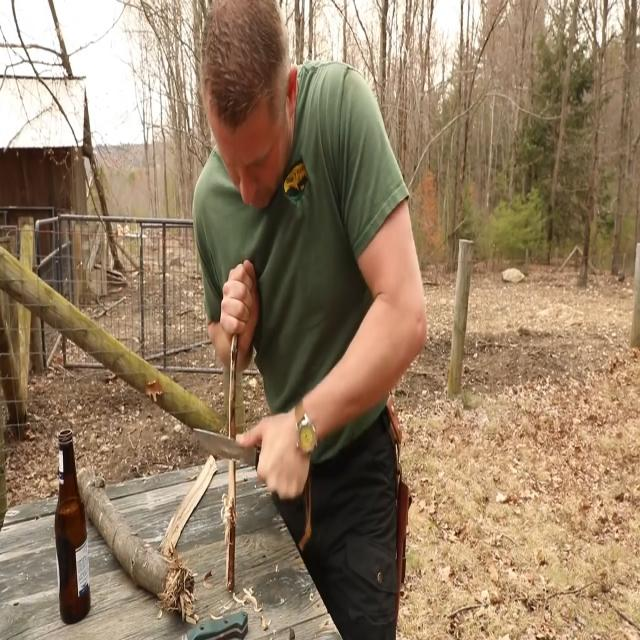knife: (191, 425, 266, 478)
